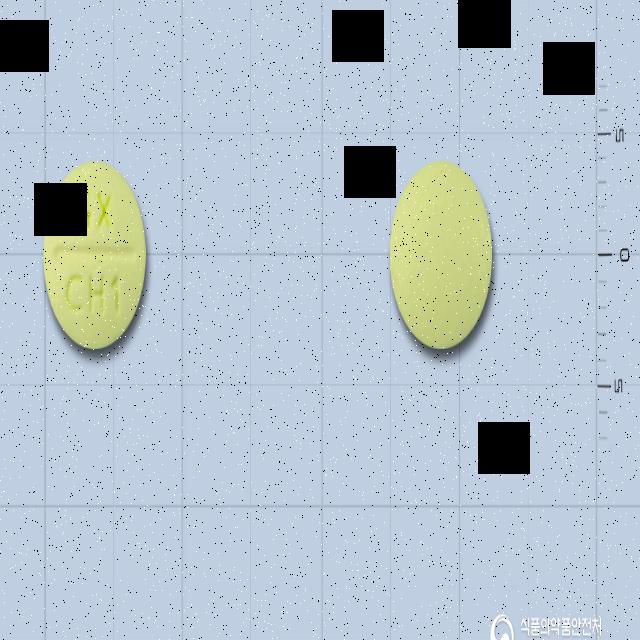Imuran: (42, 159, 148, 349)
